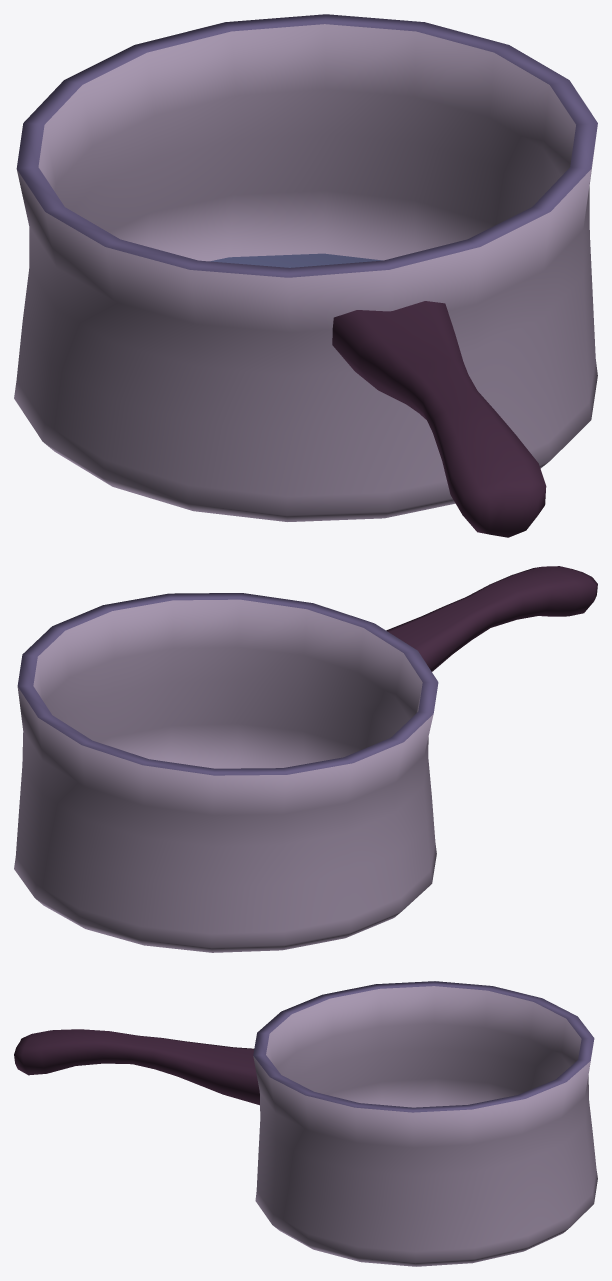
File: pan01.fbx
The picture shows the model from 3 angles, top to bottom: view 1: azimuth 30°, elevation 25°; view 2: azimuth 150°, elevation 25°; view 3: azimuth 270°, elevation 25°; orthographic projection. The views are drawn at different scales.
Visible parts, largest first — view 1: pan01; view 2: pan01; view 3: pan01.
Boxes of the visible parts, x1,y1,x2,y2 form: pan01: [14, 14, 597, 537]; pan01: [14, 566, 597, 952]; pan01: [14, 981, 597, 1266].
Size of the model in its own units: 65.28 by 33.51 by 111.
